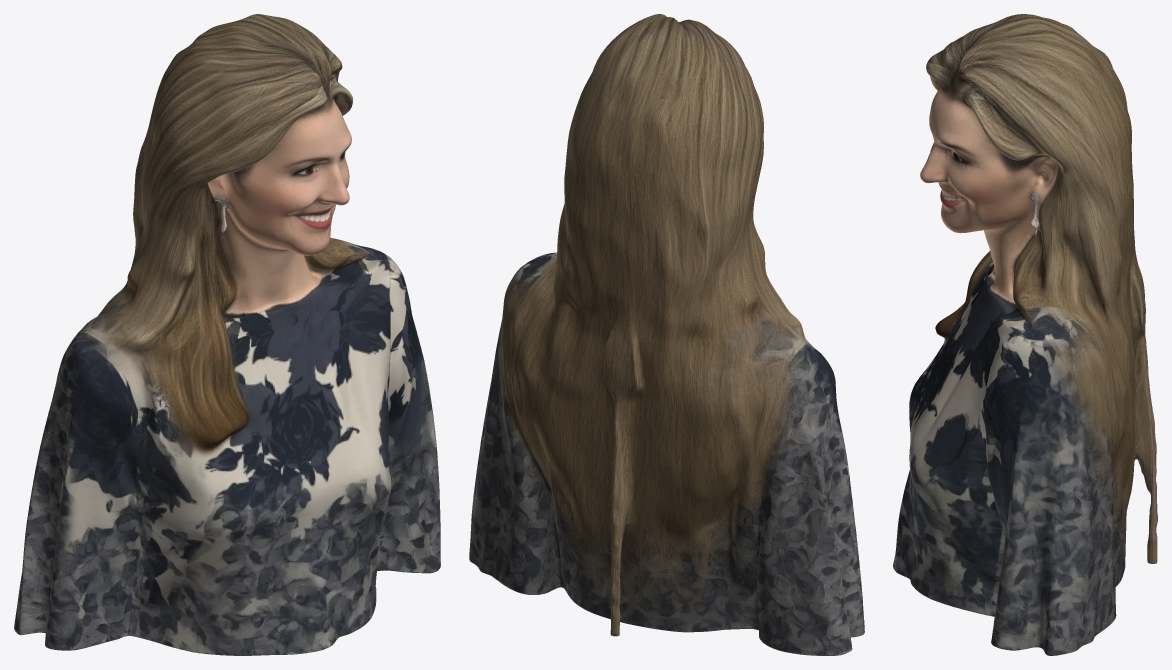
Rendered from Queen_Maxima_3DModel_Final.glb.
The picture shows the model from 3 angles, left to right: view 1: azimuth 30°, elevation 25°; view 2: azimuth 150°, elevation 25°; view 3: azimuth 270°, elevation 25°; orthographic projection. The views are drawn at different scales.
Size of the model in its own units: 1.39 by 1.9 by 0.8305.
Materials: 1 (1 with a texture image).
